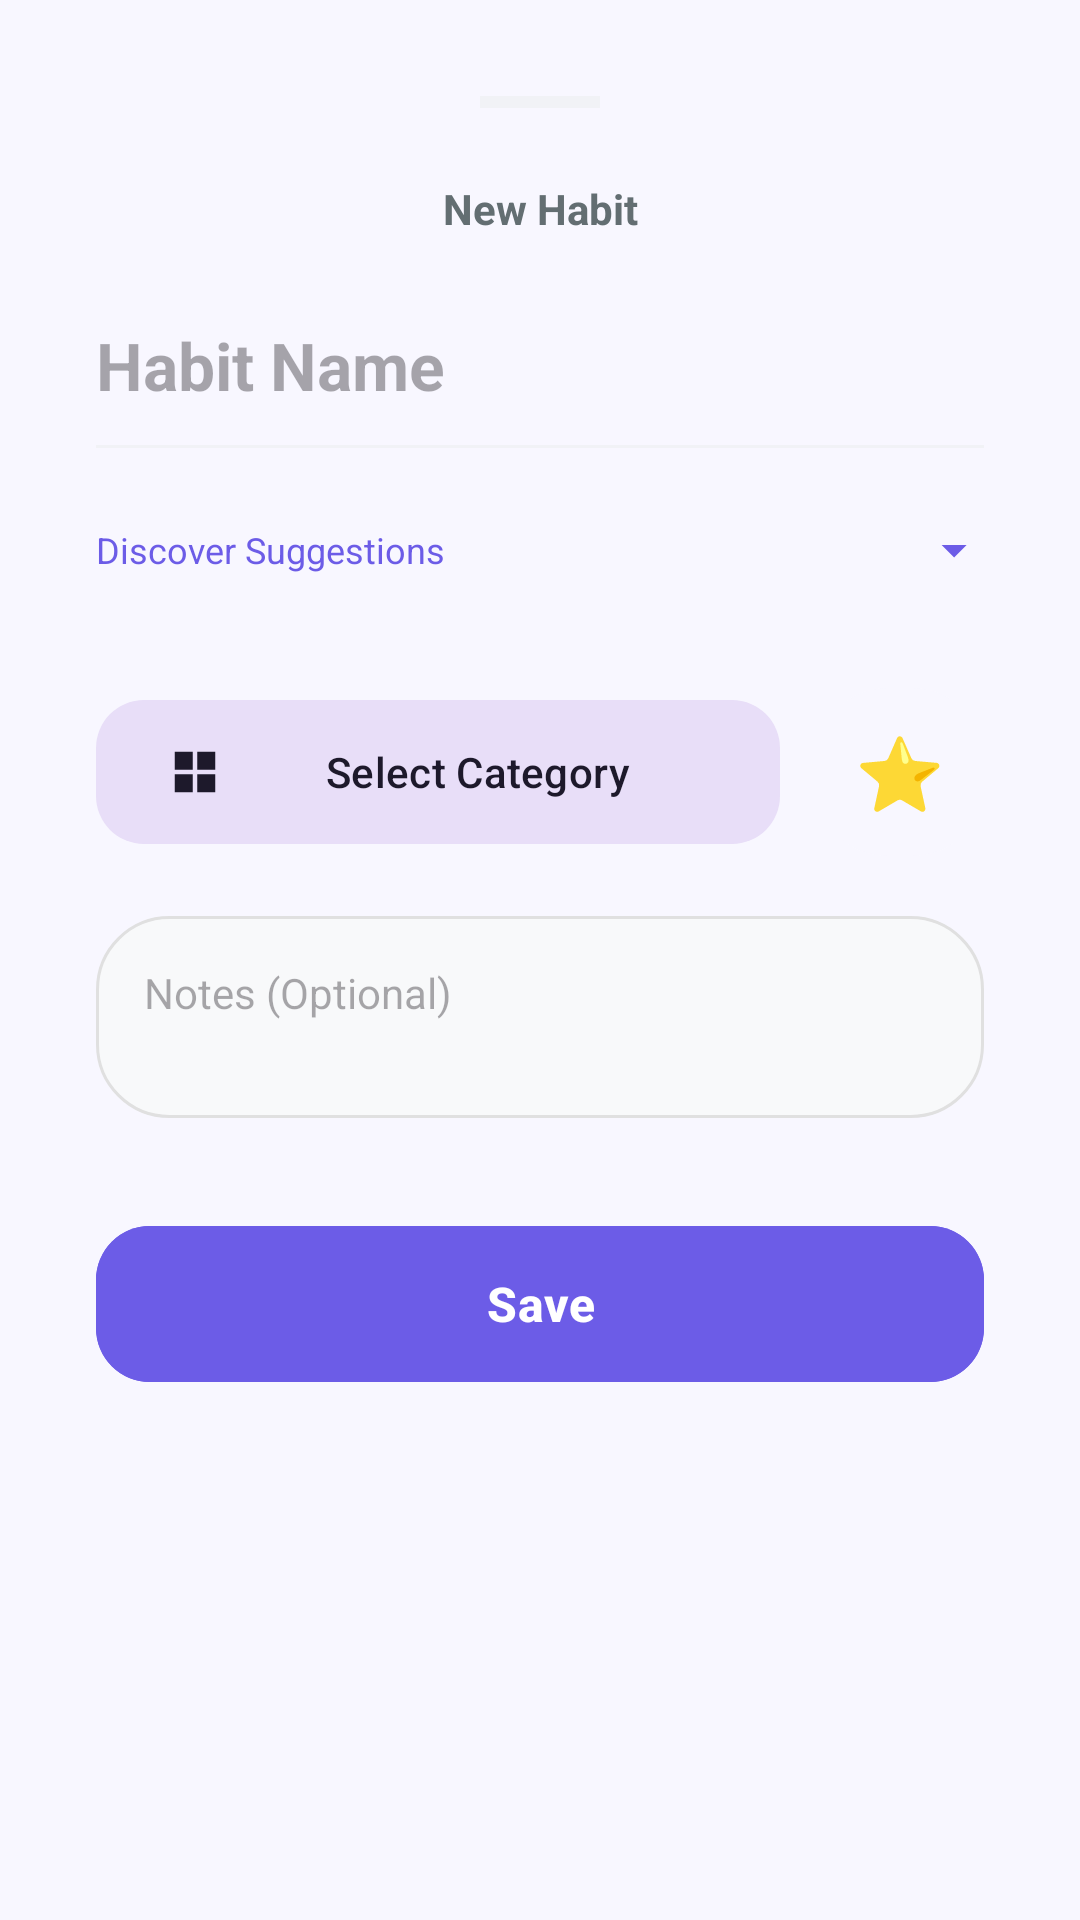

Screen size 1080x1920. Icon name, then its box in pixels as detection(x1, y1, x2, y2):
arrow down: detection(942, 545, 967, 558)
